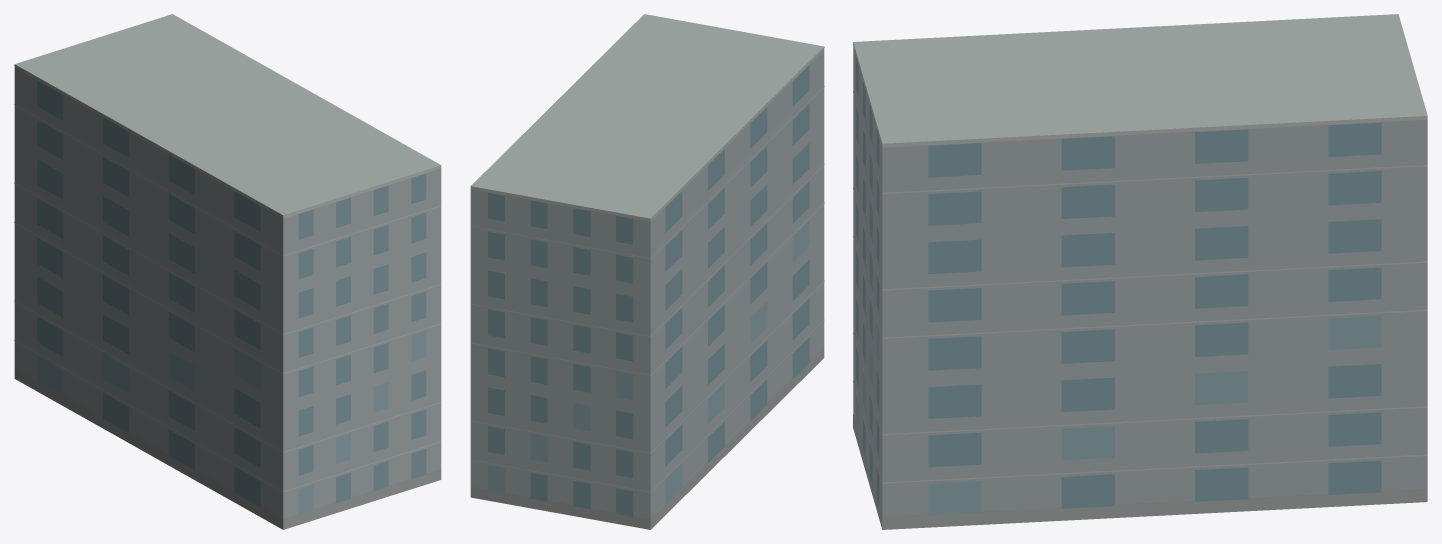
The model's file is residential-44baa65a-c0f5-45df-8cf8-ab37989ef2f4.glb.
3 views of the same model, side by side, from view 1: azimuth 30°, elevation 25°; view 2: azimuth 150°, elevation 25°; view 3: azimuth 270°, elevation 25° (orthographic). The views are drawn at different scales.
Parts seen in each view (by area): view 1: residential-44baa65a-c0f5-45df-8cf8-ab37989ef2f4.tmp; view 2: residential-44baa65a-c0f5-45df-8cf8-ab37989ef2f4.tmp; view 3: residential-44baa65a-c0f5-45df-8cf8-ab37989ef2f4.tmp.
Boxes of the visible parts, box(x1,y1,x2,y2) form: residential-44baa65a-c0f5-45df-8cf8-ab37989ef2f4.tmp: box(14, 14, 441, 529); residential-44baa65a-c0f5-45df-8cf8-ab37989ef2f4.tmp: box(470, 14, 824, 529); residential-44baa65a-c0f5-45df-8cf8-ab37989ef2f4.tmp: box(853, 14, 1427, 529).
Bounding box in the file's own units: 17.6 × 24.4 × 32.92.
